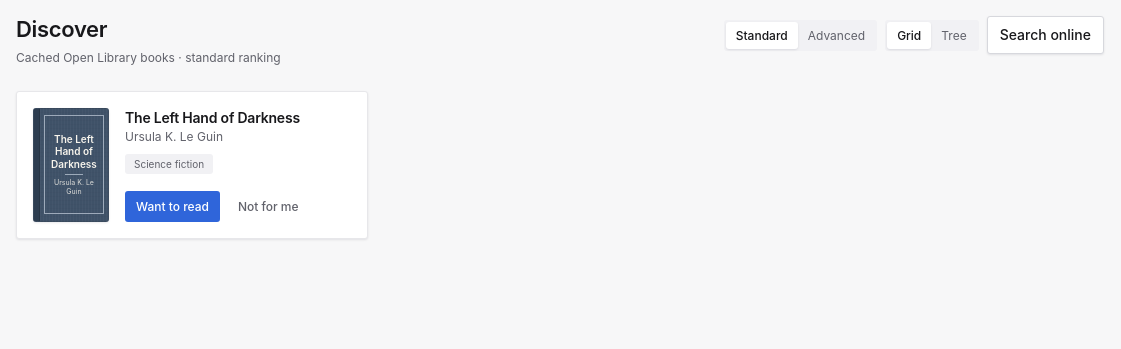
Test case: waiting for a search › says something before the first step arrives
Click the button "Search online". click: x=1045, y=35
box: [987,16,1104,54]
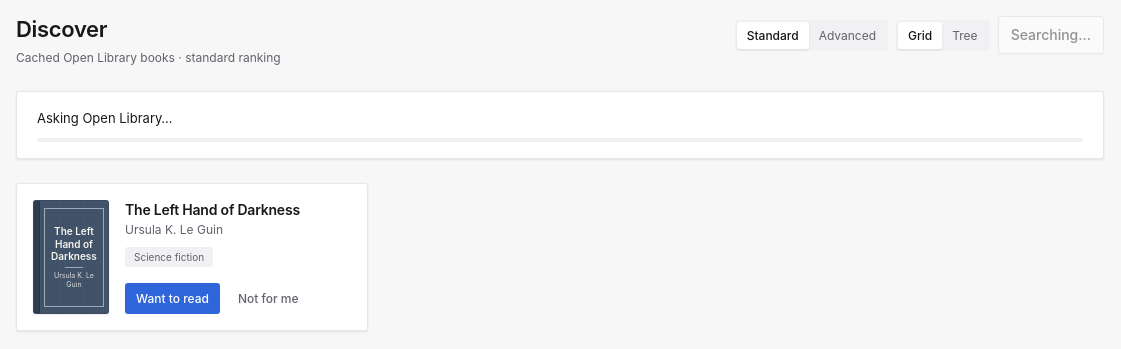
Result: the element named "Search progress" is shown at [16,91,1104,160]
Result: the text "Asking Open Library…" is shown at [37,108,173,128]
